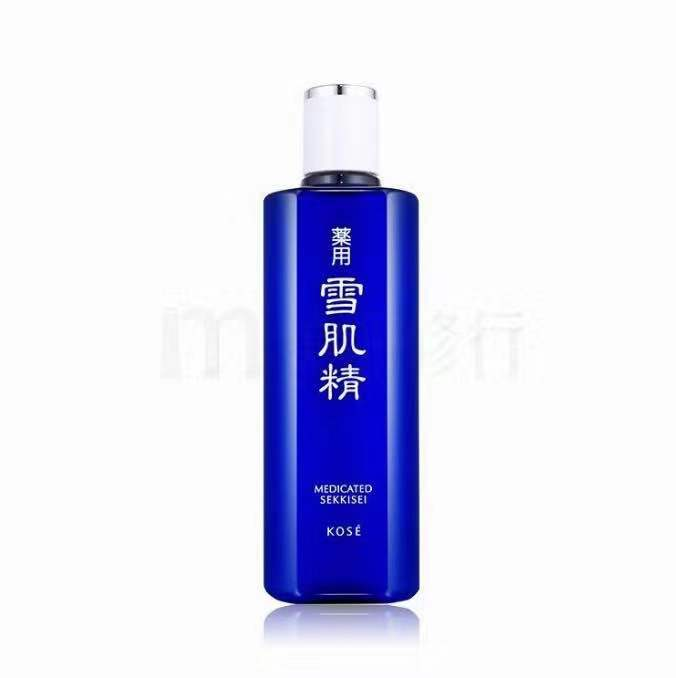cosmetic: (261, 88, 428, 605)
